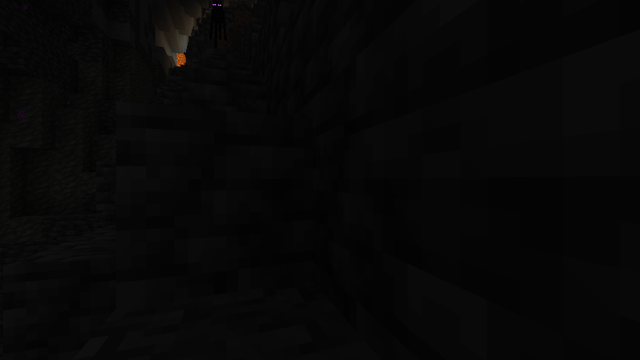endermens: (212, 0, 222, 48)
